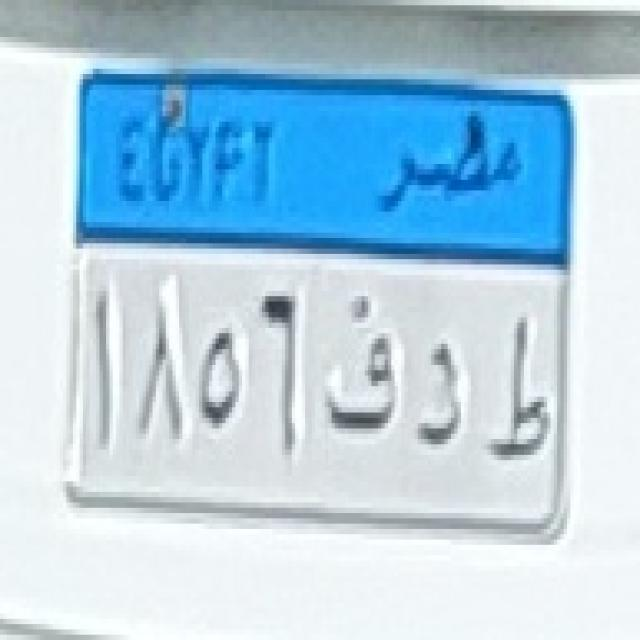1: (84, 272, 125, 460)
5: (193, 312, 248, 440)
6: (252, 283, 313, 468)
8: (138, 289, 191, 457)
F: (316, 270, 404, 470)
Taa: (480, 310, 560, 480)
daal: (415, 314, 473, 462)
